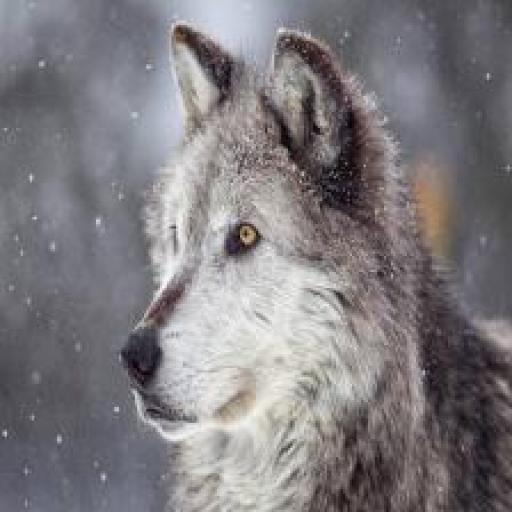wolf: (84, 2, 512, 511)
